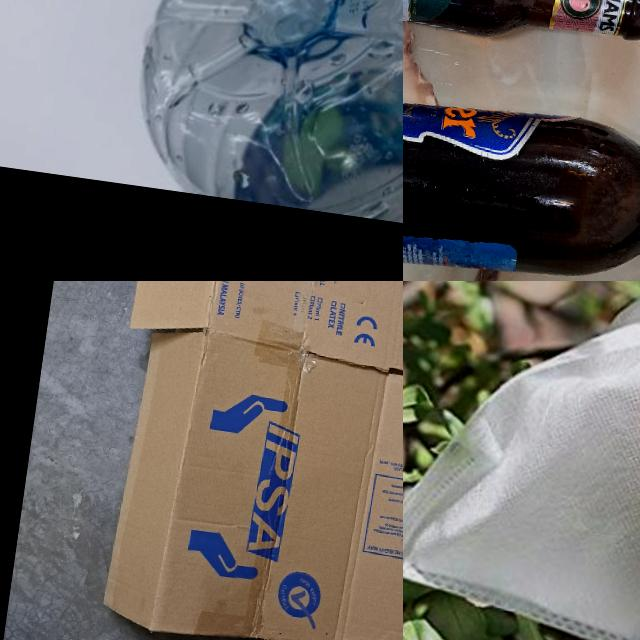garrafa de vidro: (403, 73, 640, 281), (403, 0, 640, 65)
garrafa plástica: (124, 0, 403, 236)
papelão: (86, 281, 403, 640)
sacola plástica: (403, 281, 640, 640)
